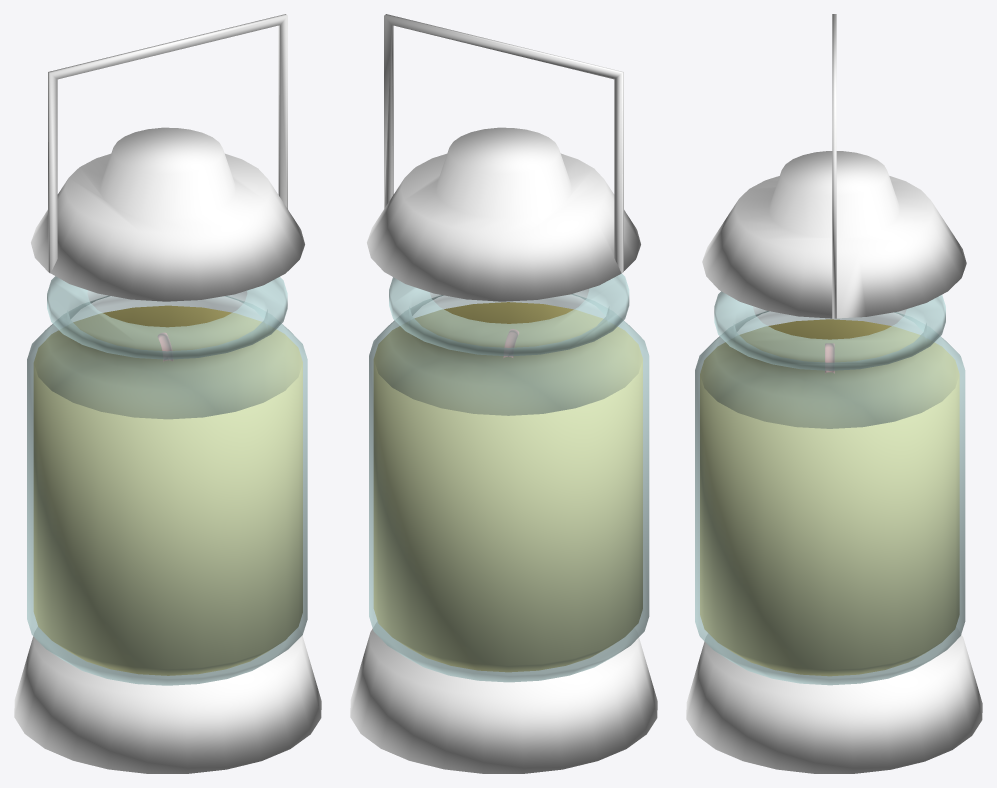
3 renders of one model, left to right at view 1: azimuth 30°, elevation 25°; view 2: azimuth 150°, elevation 25°; view 3: azimuth 270°, elevation 25°, orthographic. The views are drawn at different scales.
Bounding box in the file's own units: 0.1112 × 0.2659 × 0.1112.
